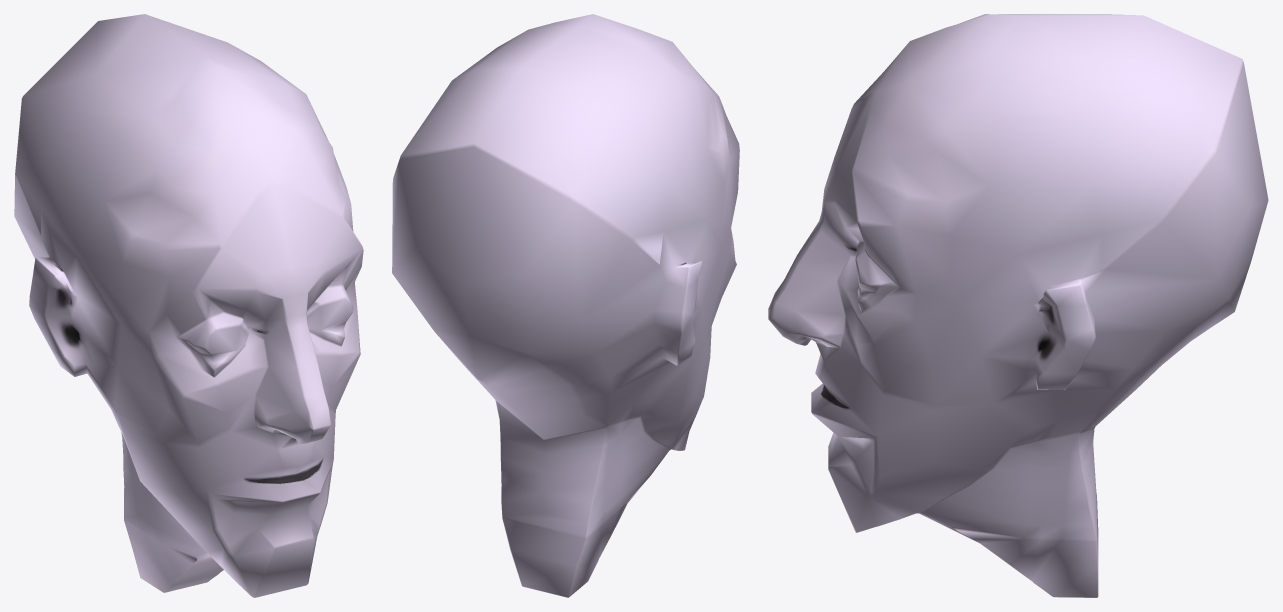
The model's file is meshy-rave-sky-head.glb.
The picture shows the model from 3 angles, left to right: view 1: azimuth 30°, elevation 25°; view 2: azimuth 150°, elevation 25°; view 3: azimuth 270°, elevation 25°; orthographic projection. The views are drawn at different scales.
Size of the model in its own units: 1.02 by 1.91 by 1.51.
Materials: 1 (1 with a texture image).
